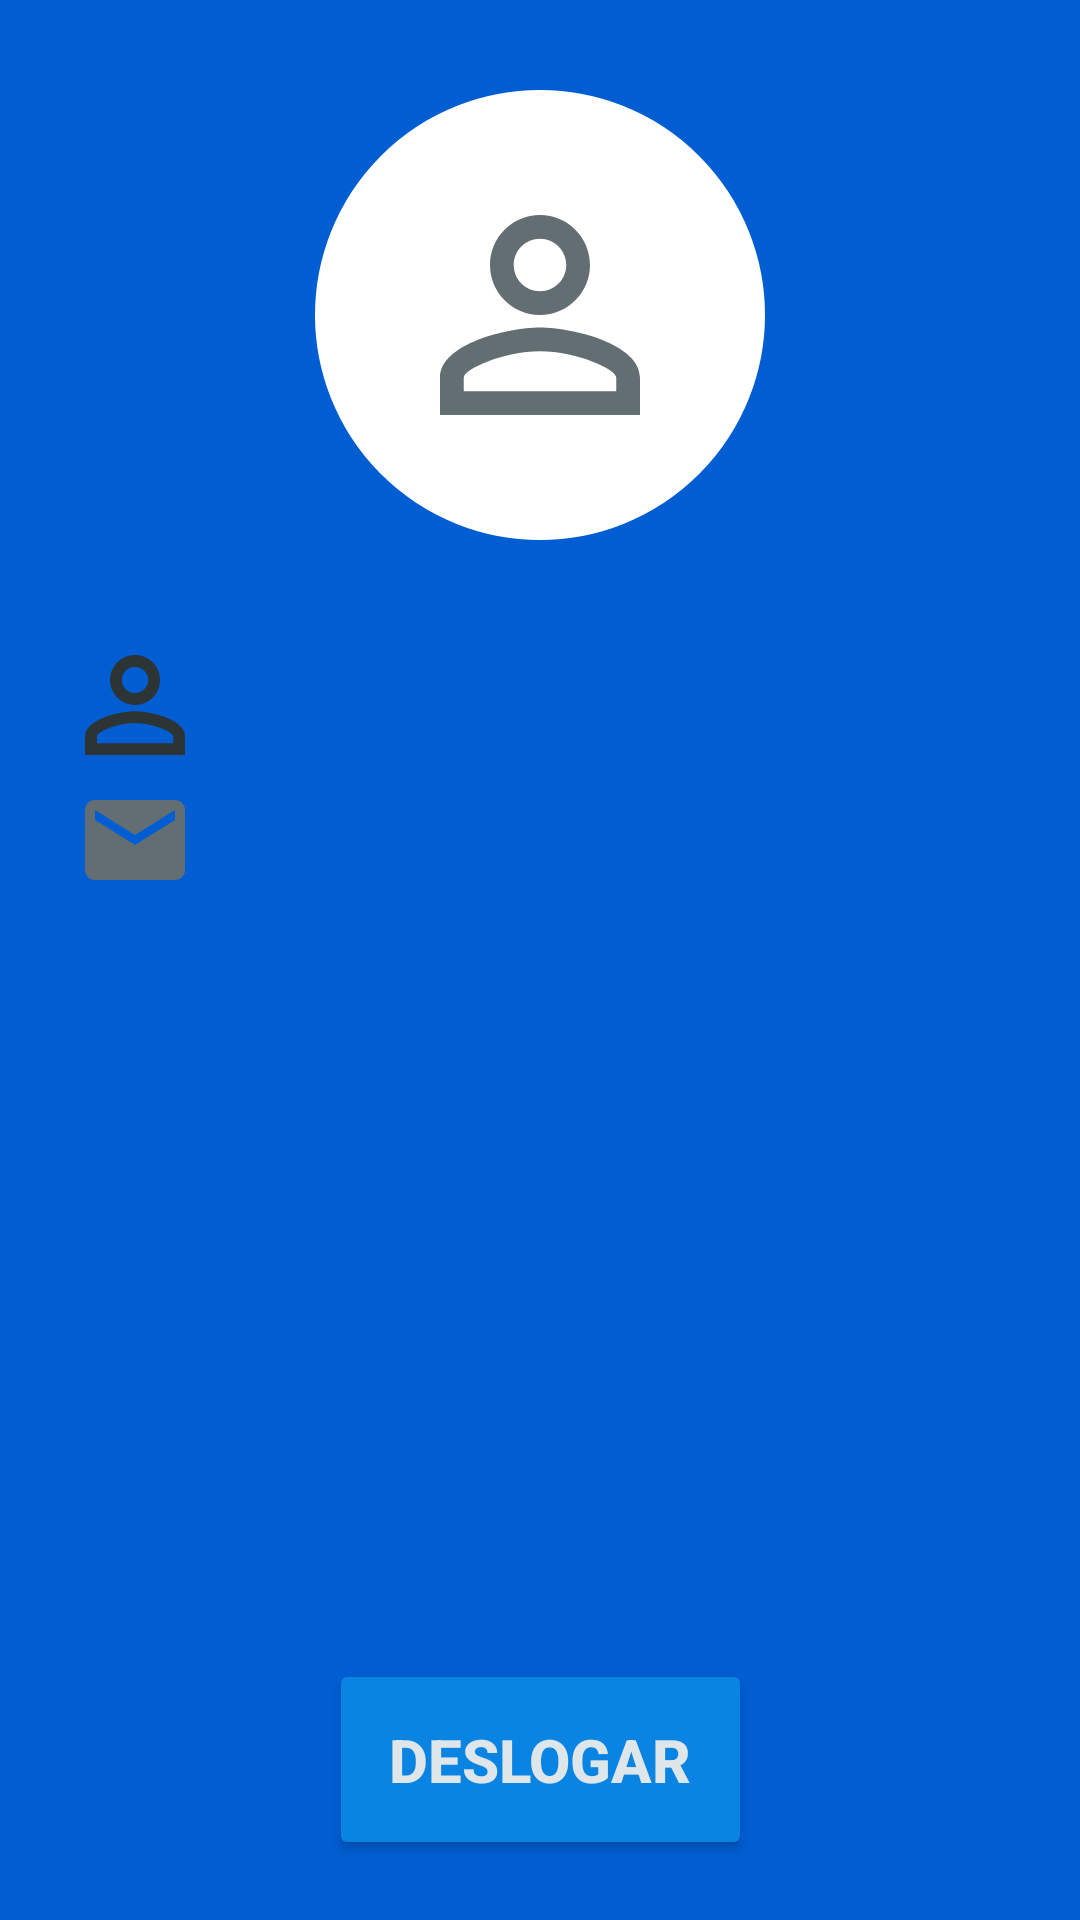

Where icons sit on this 1080×1920 app screen, as [left=x1, top=y1, right=x2, bottom=y2]:
email: [left=85, top=800, right=185, bottom=880]
